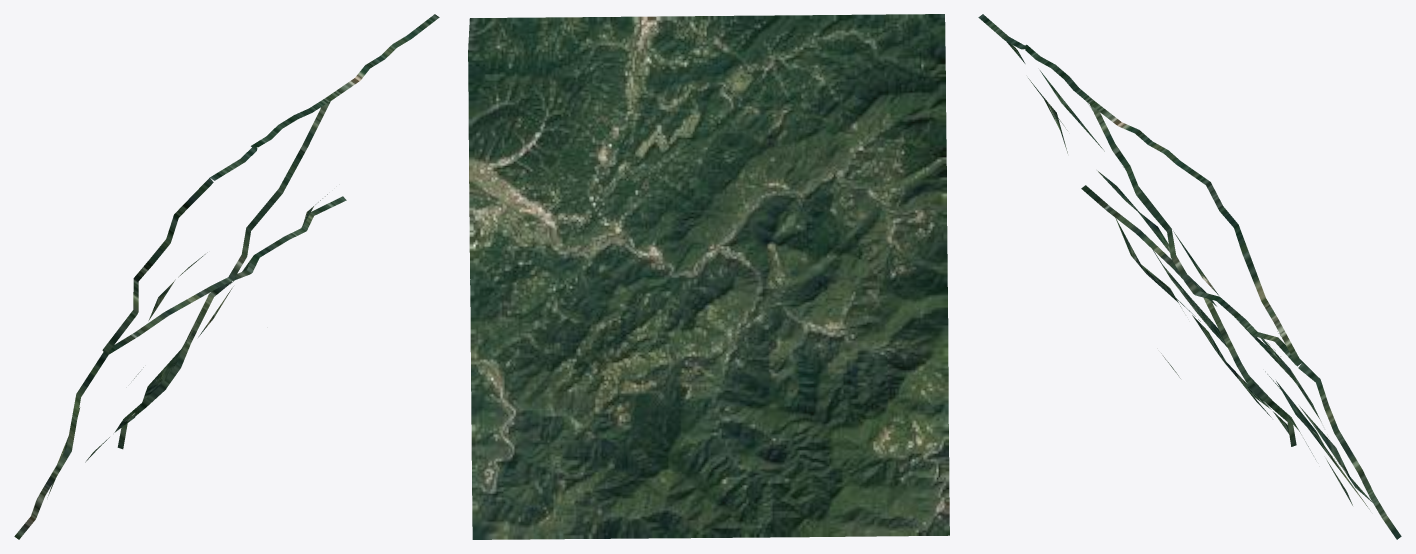
3 renders of one model, left to right at view 1: azimuth 30°, elevation 25°; view 2: azimuth 150°, elevation 25°; view 3: azimuth 270°, elevation 25°, orthographic. The views are drawn at different scales.
Bounding box in the file's own units: 20072 × 17843 × 16726.
Materials: 1 (1 with a texture image).
